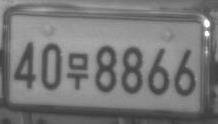0: (40, 42, 62, 91)
4: (13, 41, 36, 89)
6: (147, 47, 170, 94), (173, 49, 196, 96)
8: (94, 45, 118, 93), (120, 46, 143, 94)
무: (66, 51, 89, 91)
